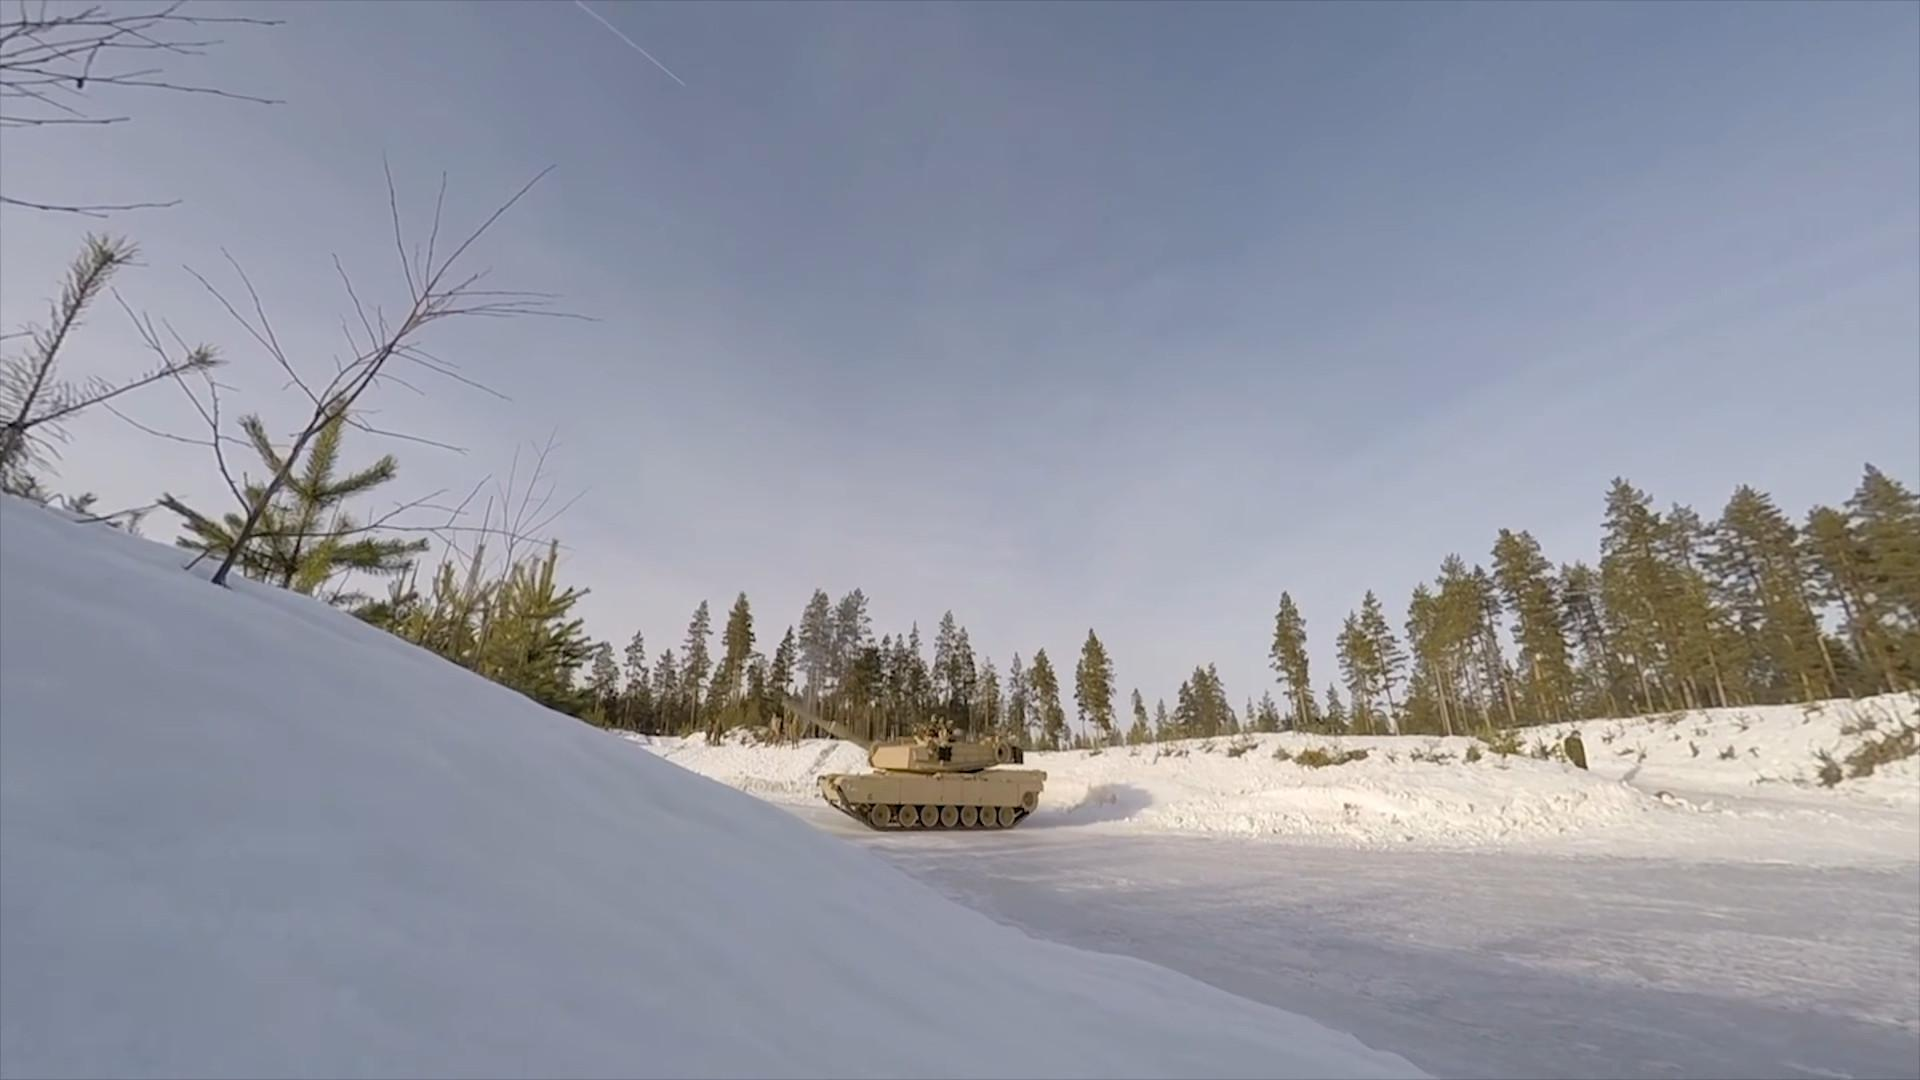tank: (760, 687, 1047, 831)
